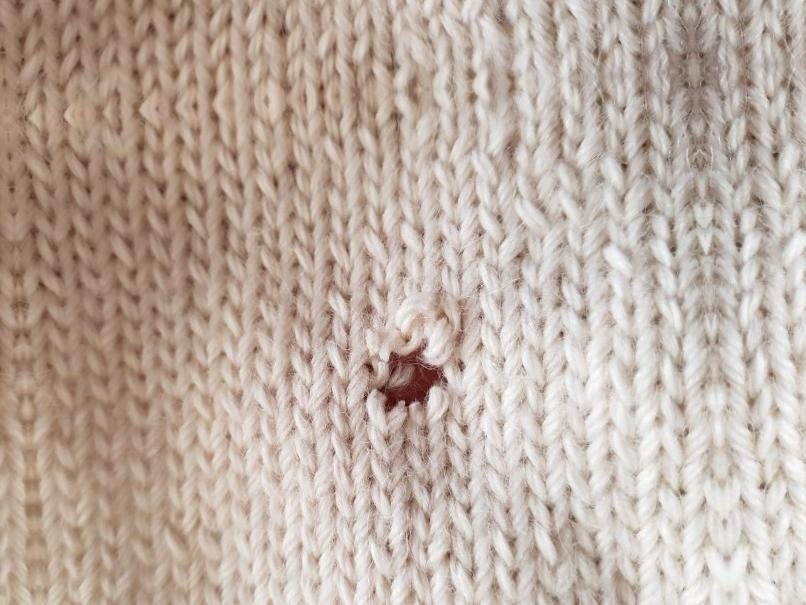hole: (363, 338, 467, 425)
